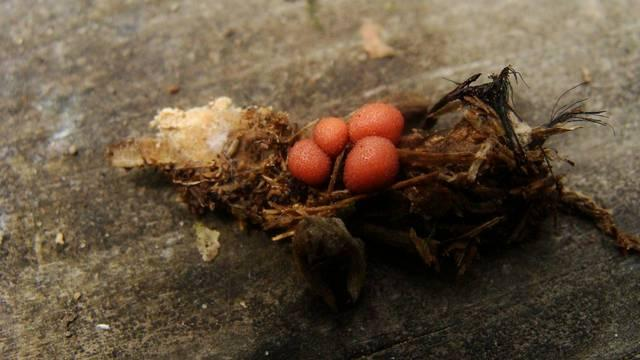poisonous_mushroom: (285, 100, 405, 194), (342, 134, 399, 193), (346, 101, 404, 144), (285, 137, 332, 184), (311, 115, 348, 156)
